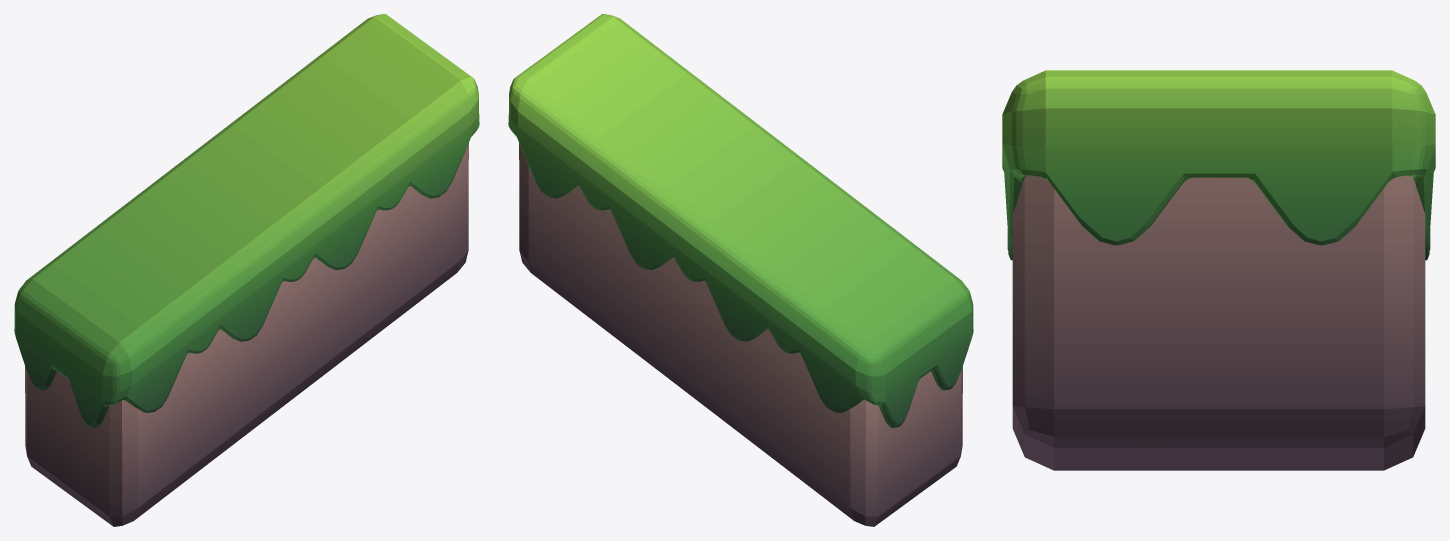
The model's file is test_angle.fbx.
3 views of the same model, side by side, from view 1: azimuth 30°, elevation 25°; view 2: azimuth 150°, elevation 25°; view 3: azimuth 270°, elevation 25° (orthographic). The views are drawn at different scales.
Parts seen in each view (by area): view 1: angle; view 2: angle; view 3: angle.
Part boxes in pixels (bbox=[...]): angle: bbox=[14, 14, 479, 526]; angle: bbox=[508, 14, 973, 526]; angle: bbox=[1002, 70, 1435, 470].
Size of the model in its own units: 4.2 by 3.9 by 2.1.
